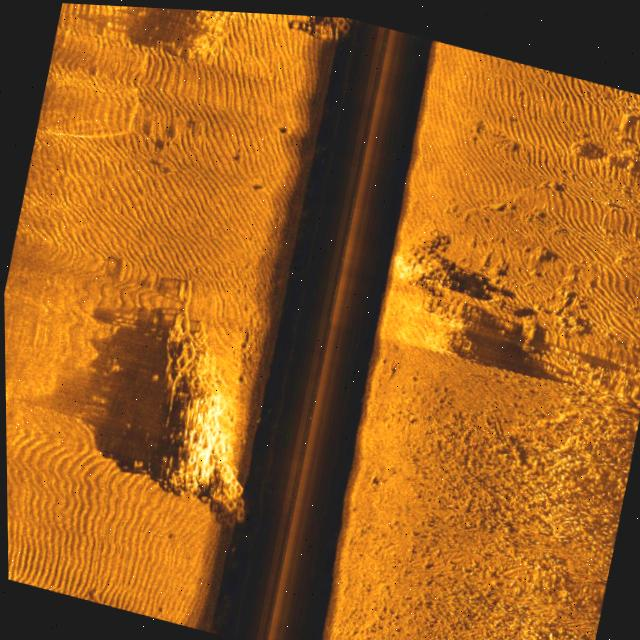artificial reef: (88, 288, 272, 531), (298, 12, 353, 63)
